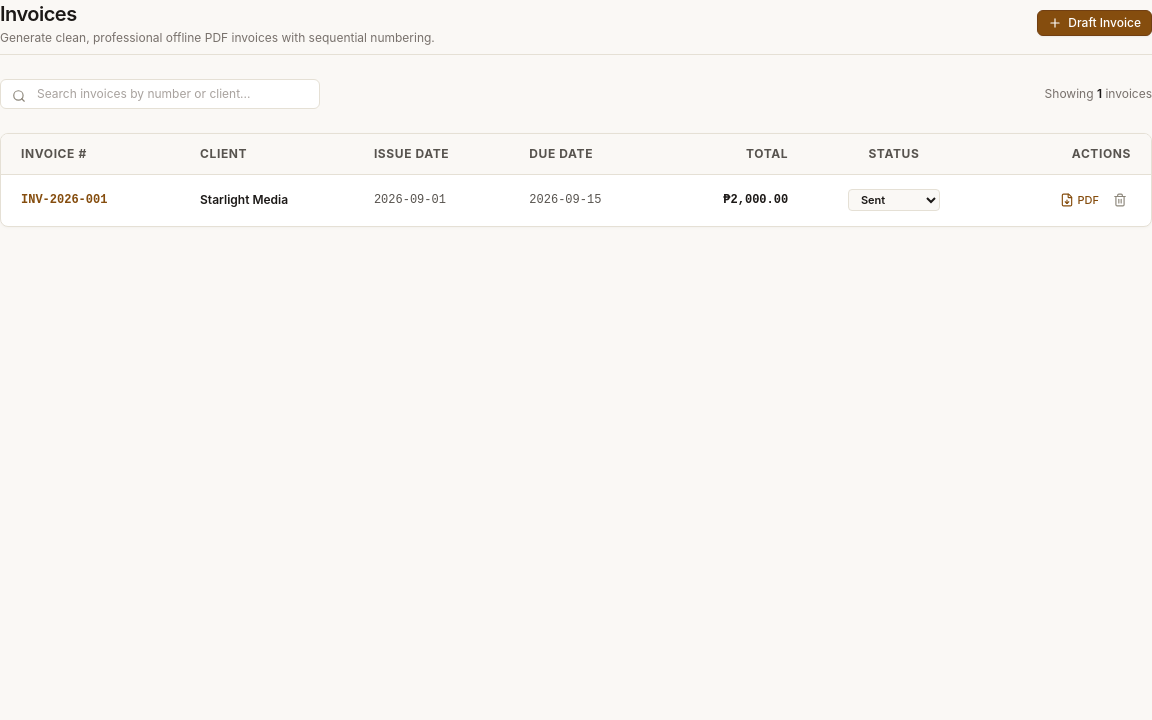
InvoicesView Component › rejects a negative tax rate before creating an invoice
expect the text "INV-2026-001" is shown: met, box [1, 174, 184, 226]
Click the button "Draft Invoice".
click(1095, 23)  # box [1037, 10, 1151, 36]
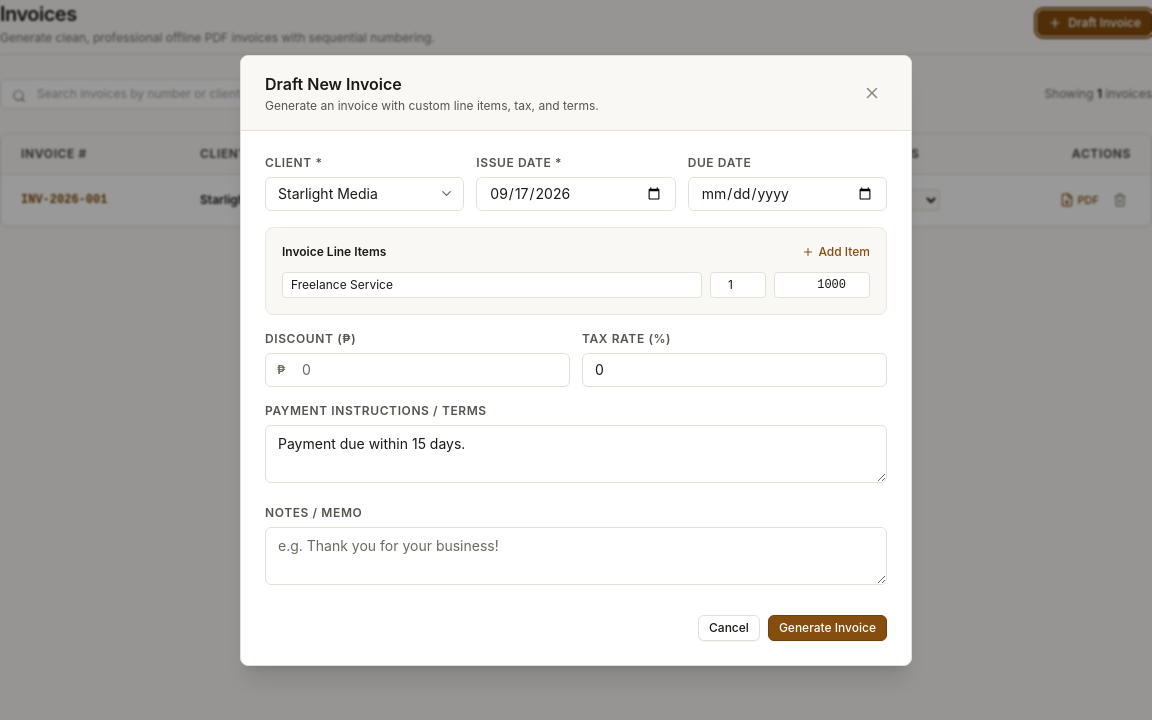
Replace the text in the number field labelled "Tax Rate (%)" with "-1" at (734, 370), box [582, 352, 887, 386]
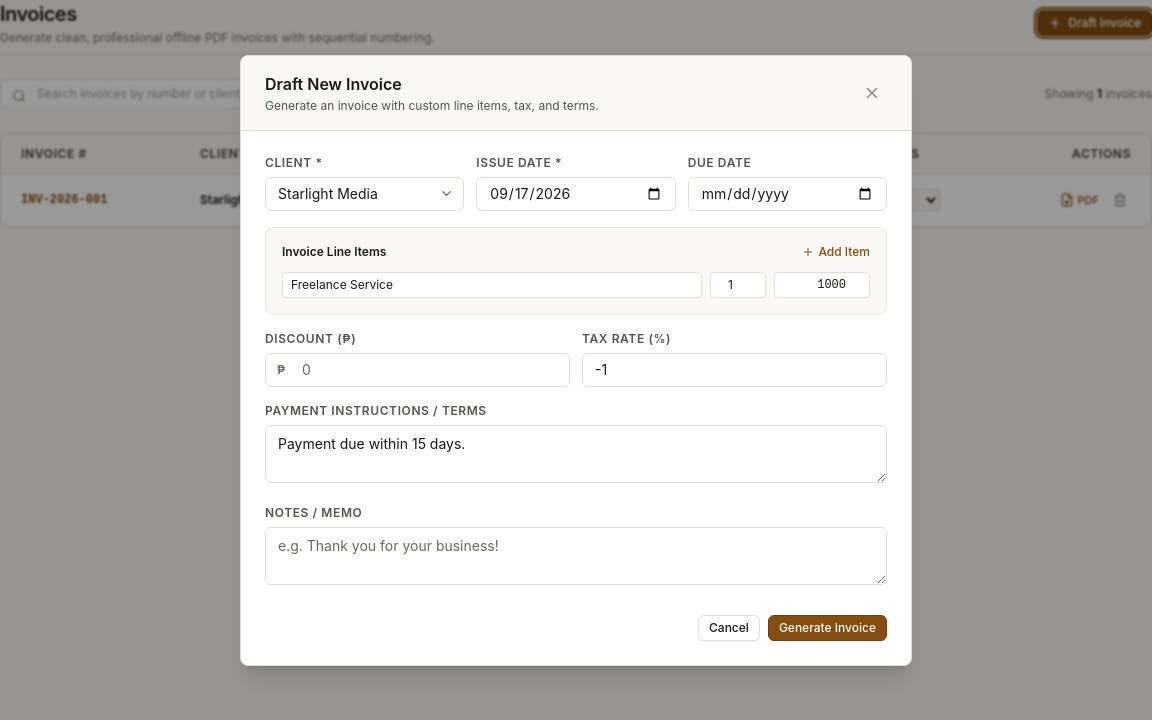
Submit the form named "Generate Invoice", box [265, 154, 887, 640]
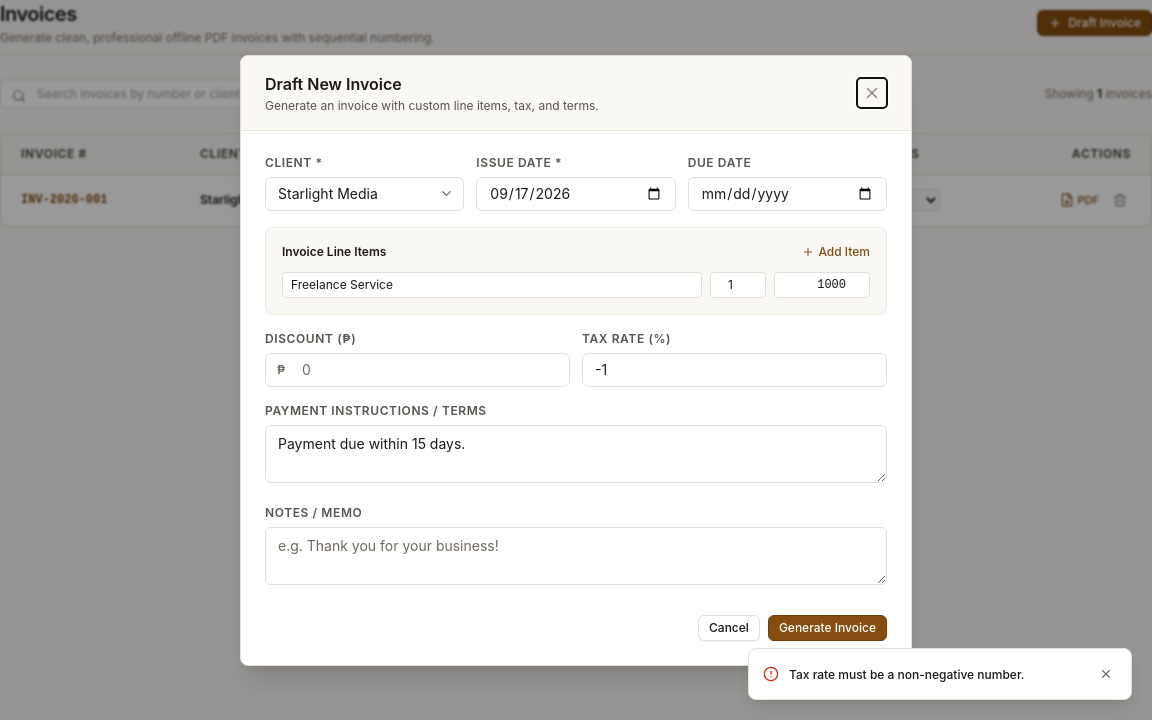
expect the text "Tax rate must be a non-negative number." is shown: met, box [789, 666, 1024, 682]
